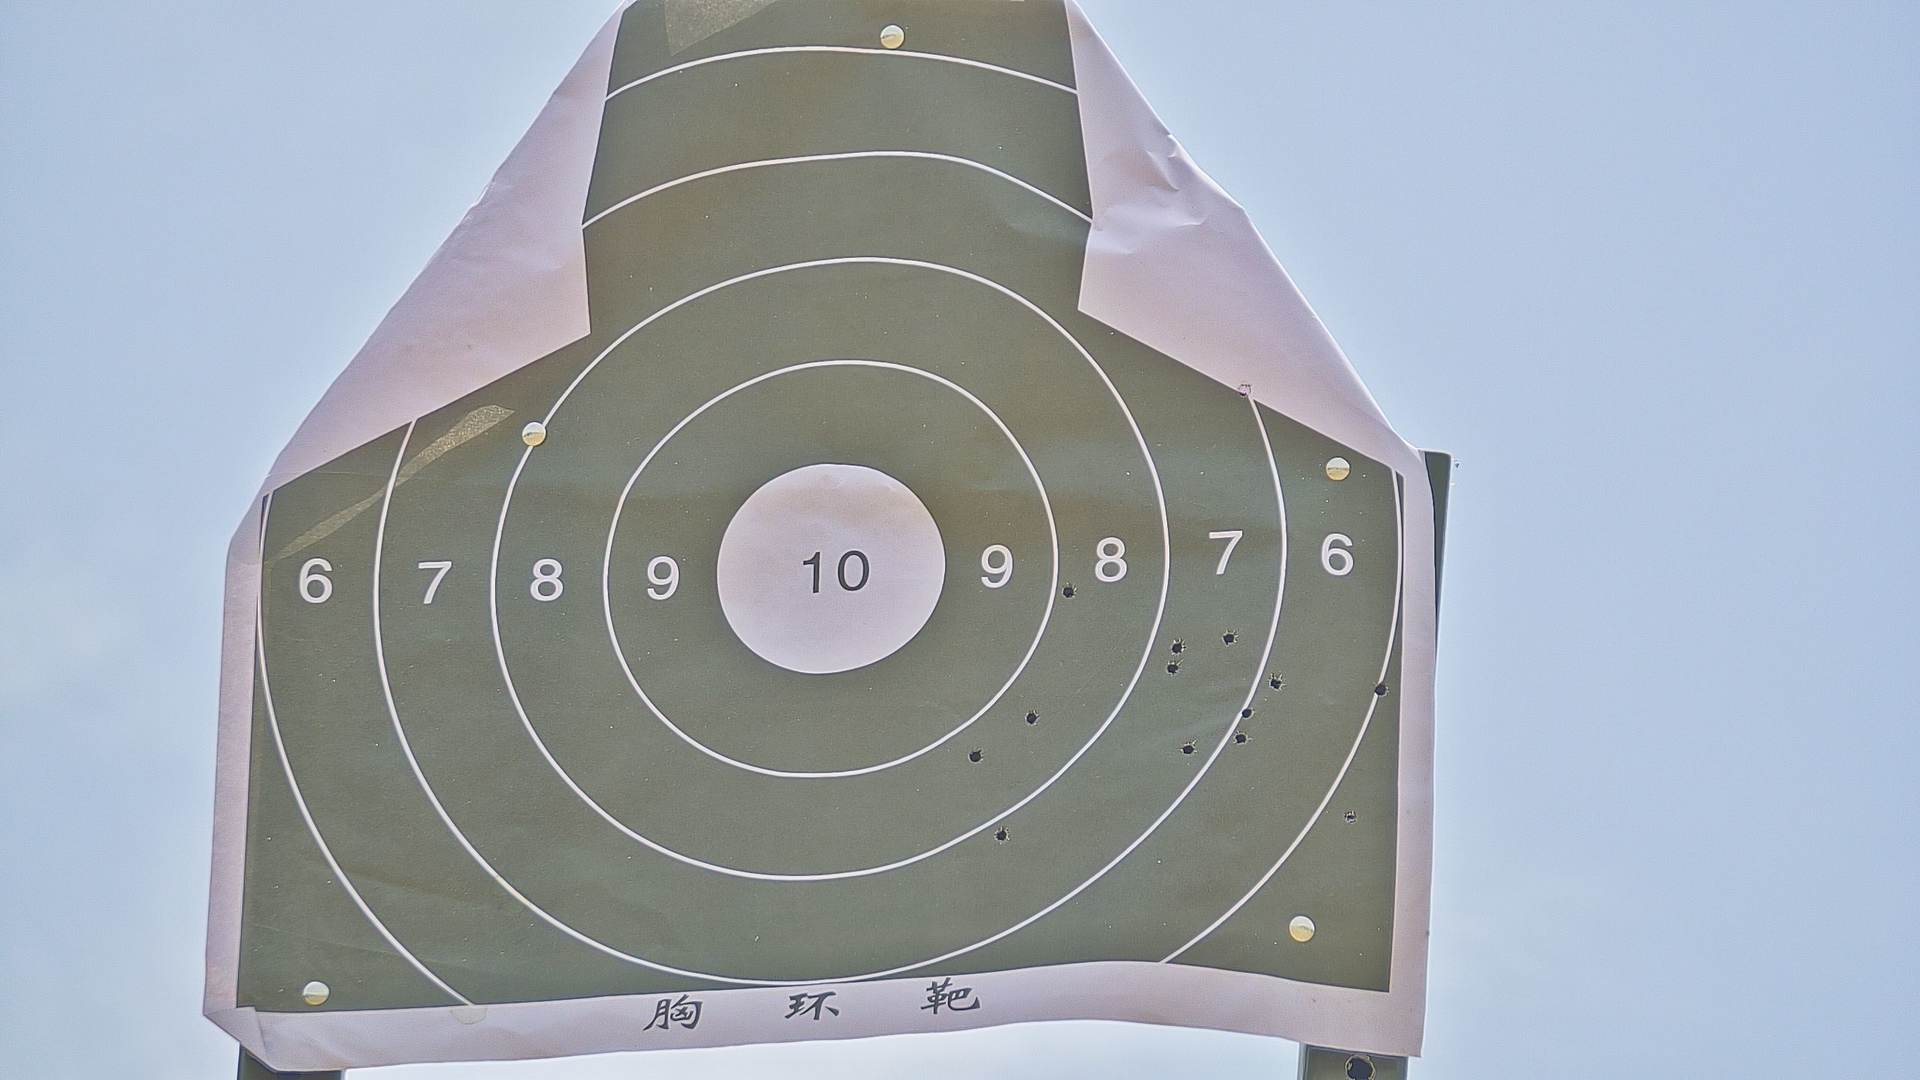hole: (969, 746, 986, 764), (1373, 680, 1390, 698), (994, 825, 1011, 841), (1269, 674, 1283, 690), (1342, 808, 1357, 824), (1222, 630, 1240, 644), (1234, 732, 1251, 744), (1172, 638, 1184, 654), (1167, 659, 1179, 675), (1182, 741, 1195, 754), (1063, 585, 1077, 597), (1240, 707, 1255, 717), (1026, 712, 1039, 724)
kernel: (823, 570, 840, 574)
target: (232, 3, 1398, 1011)
ten: (709, 464, 945, 682)
